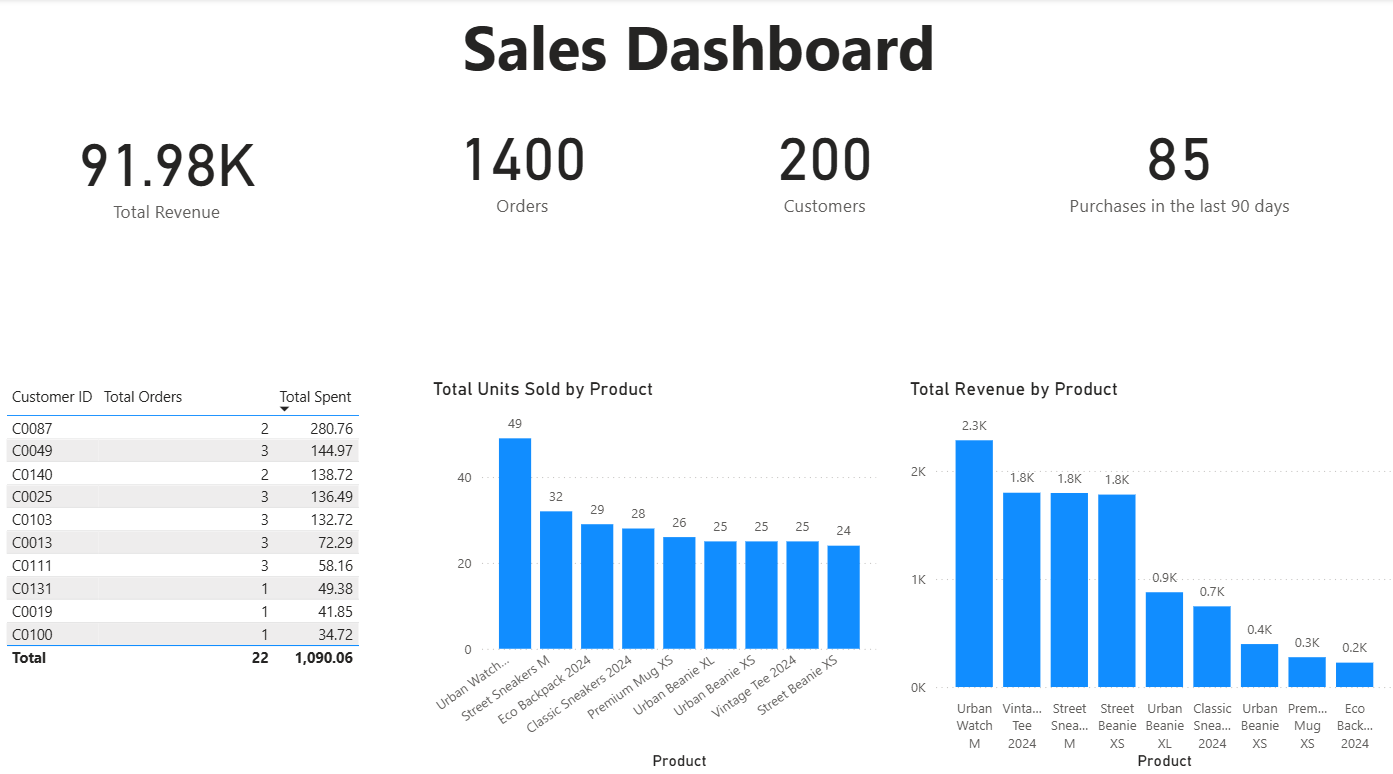

The page's visual inventory and layout, read from the dashboard file:
{"tool":"powerbi","page":{"name":"Sales Dashboard","canvas":[1280,720],"ordinal":0},"visuals":[{"type":"clusteredColumnChart","fields":{"Category":["top_products.product"],"Y":["Sum(top_products.revenue)"]},"box":[827.7,347.7,451.7,362.8],"z":1},{"type":"clusteredColumnChart","fields":{"Category":["top_products.product"],"Y":["Sum(top_products.total_units)"]},"box":[391.2,347.7,415.8,362.8],"z":2},{"type":"textbox","box":[0,0,1279.4,88.8],"z":3},{"type":"card","fields":{"Values":["Count(customers.customer_id)"]},"box":[599.6,89.3,308.9,122.7],"z":4},{"type":"card","fields":{"Values":["Count(orders.order_id)"]},"box":[330.1,89.3,293.8,122.7],"z":5},{"type":"card","fields":{"Values":["Sum(orders.total_gbp)"]},"box":[0,89.3,304.4,134.8],"z":6},{"type":"card","fields":{"Values":["CountNonNull(orders.customer_id)"]},"box":[893.4,89.3,371,122.7],"z":7},{"type":"tableEx","fields":{"Values":["churning_customers.customer_id","Sum(churning_customers.total_orders)","Sum(churning_customers.customer_revenue)"]},"box":[0,348.3,380.1,363.4],"z":8}]}

Visuals, with their boxes in screenshot pixels (x1, y1, x2, y2), scaled from the page's 1280x720 canvas onto the 1393x774 screenshot:
clusteredColumnChart - top_products.product x Sum(top_products.revenue): {"left": 901, "top": 374, "right": 1392, "bottom": 764}
clusteredColumnChart - top_products.product x Sum(top_products.total_units): {"left": 426, "top": 374, "right": 878, "bottom": 764}
textbox: {"left": 0, "top": 0, "right": 1392, "bottom": 95}
card - Count(customers.customer_id): {"left": 653, "top": 96, "right": 989, "bottom": 228}
card - Count(orders.order_id): {"left": 359, "top": 96, "right": 679, "bottom": 228}
card - Sum(orders.total_gbp): {"left": 0, "top": 96, "right": 331, "bottom": 241}
card - CountNonNull(orders.customer_id): {"left": 972, "top": 96, "right": 1376, "bottom": 228}
tableEx - churning_customers.customer_id x Sum(churning_customers.total_orders): {"left": 0, "top": 374, "right": 414, "bottom": 765}
